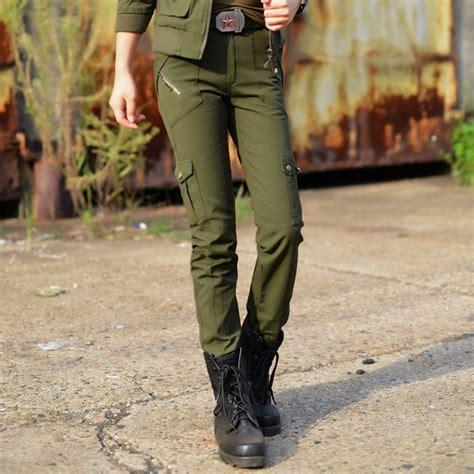pants: (152, 10, 306, 356)
